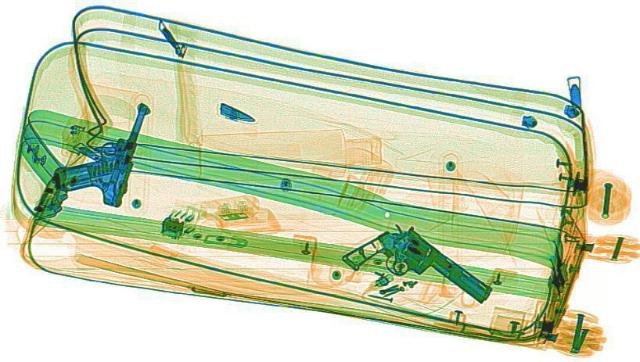Gun: (328, 219, 516, 318), (45, 97, 152, 205)
